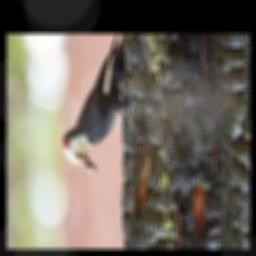Woodpecker: (64, 34, 137, 176)
